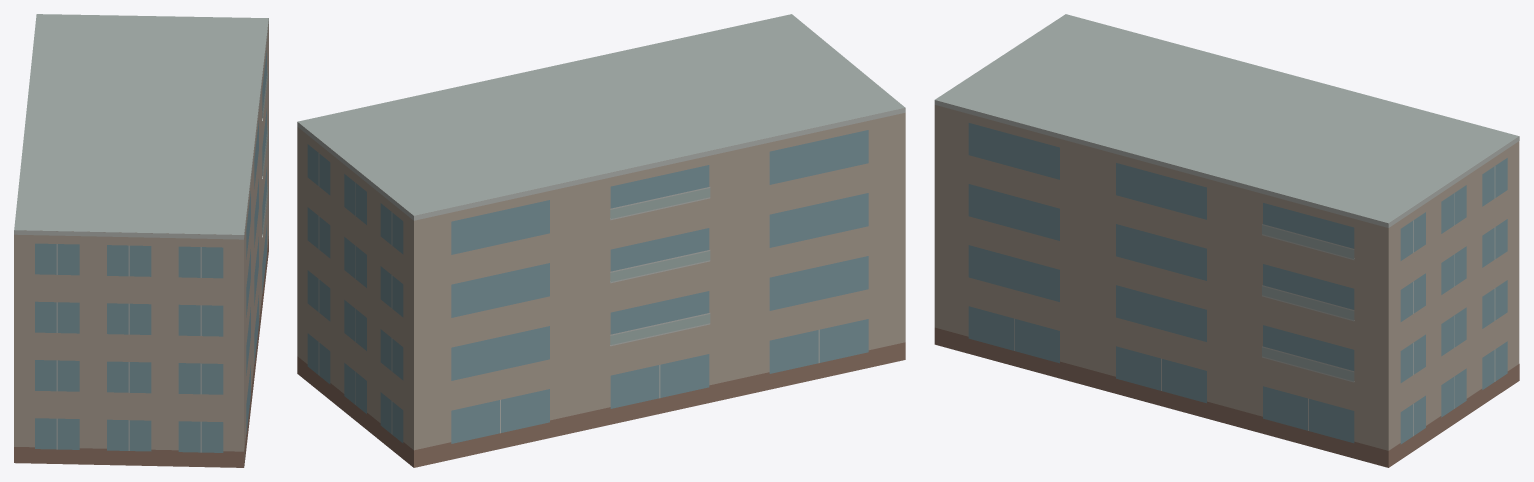
File: survey-upis-32885153.glb
3 views of the same model, side by side, from view 1: azimuth 30°, elevation 25°; view 2: azimuth 150°, elevation 25°; view 3: azimuth 270°, elevation 25° (orthographic). The views are drawn at different scales.
Visible parts, largest first — view 1: survey-upis-32885153.tmp; view 2: survey-upis-32885153.tmp; view 3: survey-upis-32885153.tmp.
Boxes of the visible parts, x1,y1,x2,y2 form: survey-upis-32885153.tmp: (14, 14, 268, 467); survey-upis-32885153.tmp: (297, 14, 905, 467); survey-upis-32885153.tmp: (934, 14, 1519, 467).
Bounding box in the file's own units: 22.95 × 12.5 × 27.1.
